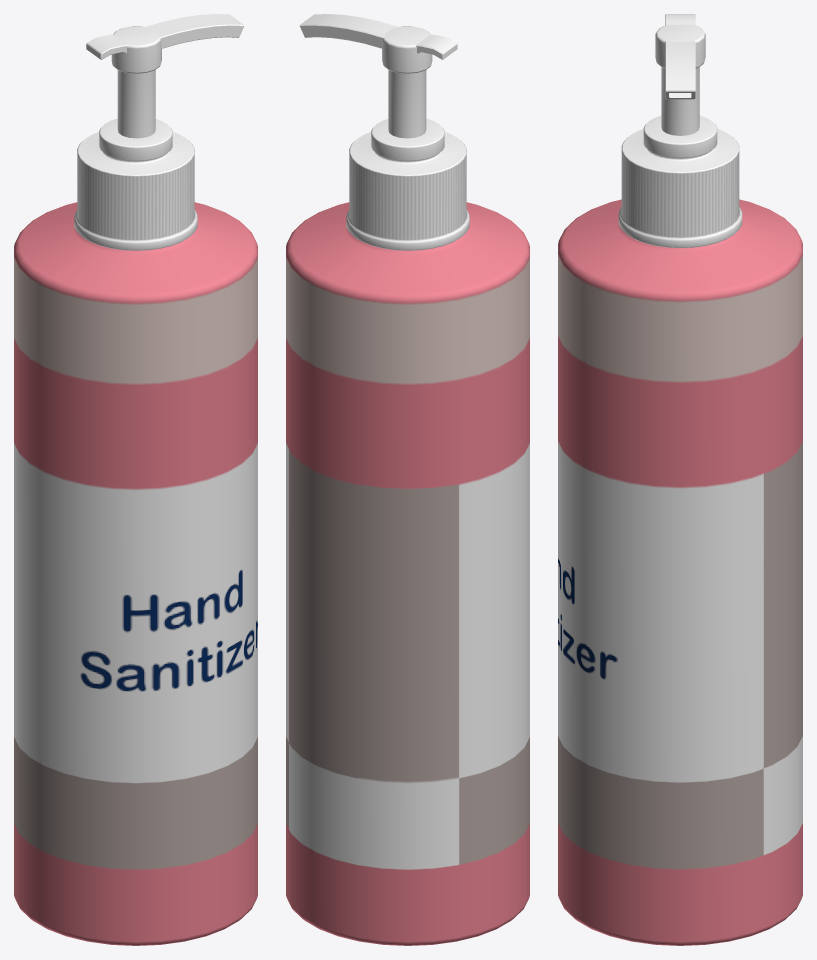
The model's file is HandSanitizer.glb.
3 renders of one model, left to right at view 1: azimuth 30°, elevation 25°; view 2: azimuth 150°, elevation 25°; view 3: azimuth 270°, elevation 25°, orthographic.
Parts seen in each view (by area): view 1: HandSanitizer; view 2: HandSanitizer; view 3: HandSanitizer.
Boxes of the visible parts, x1,y1,x2,y2 form: HandSanitizer: (14,14,257,945); HandSanitizer: (286,14,529,945); HandSanitizer: (558,14,802,945).
Size of the model in its own units: 4.46 by 17.29 by 4.44.
Materials: 1 (1 with a texture image).
